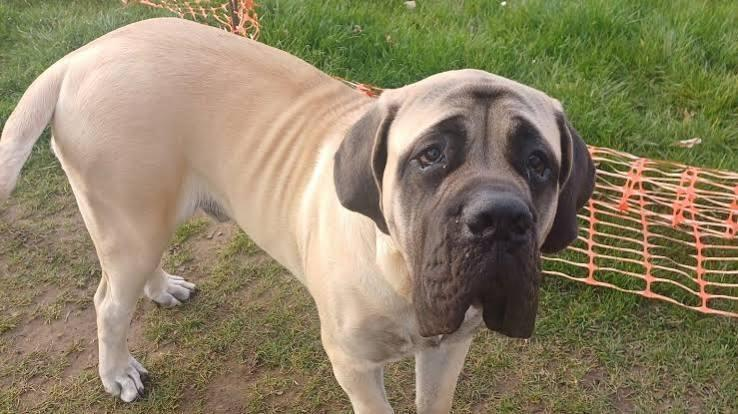adult_dog: (0, 14, 593, 414)
